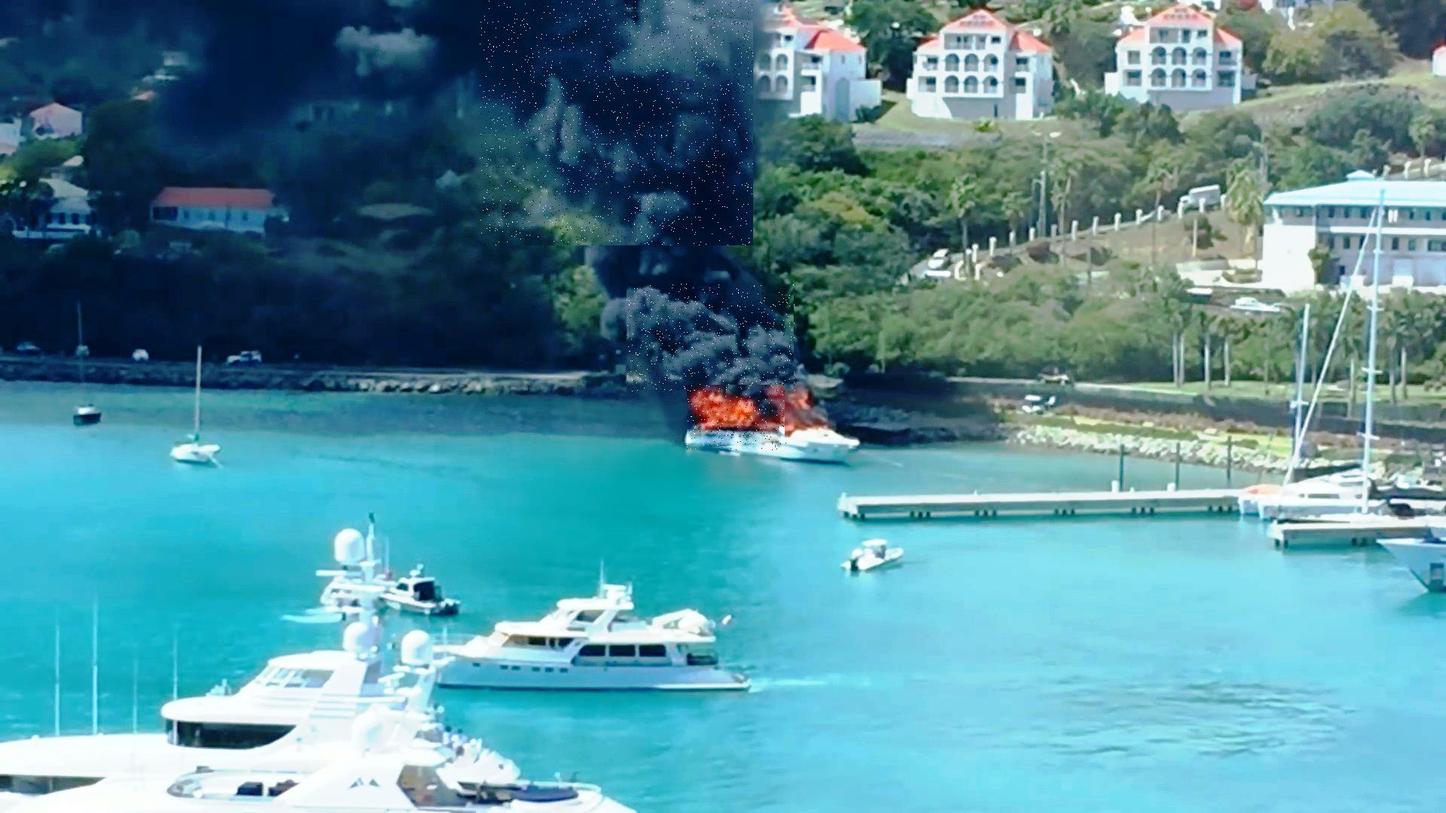fire: (688, 386, 787, 450)
smoke: (480, 0, 753, 245), (627, 284, 796, 392)
